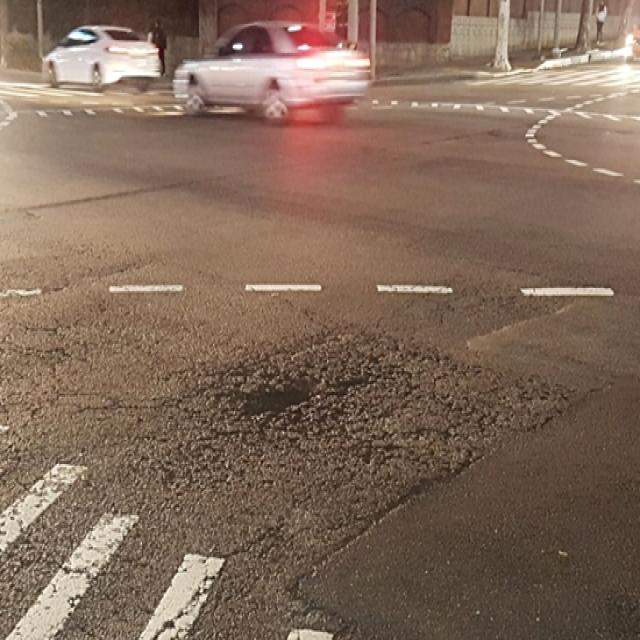pothole: (221, 353, 334, 448)
